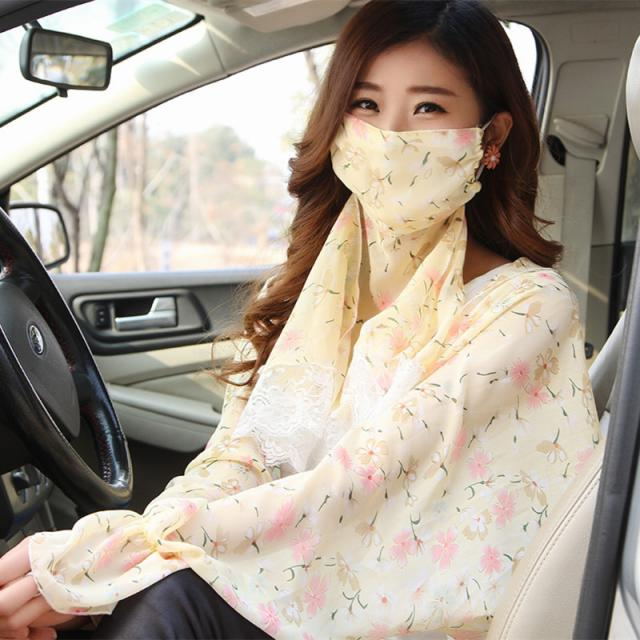mask: (336, 36, 480, 225)
